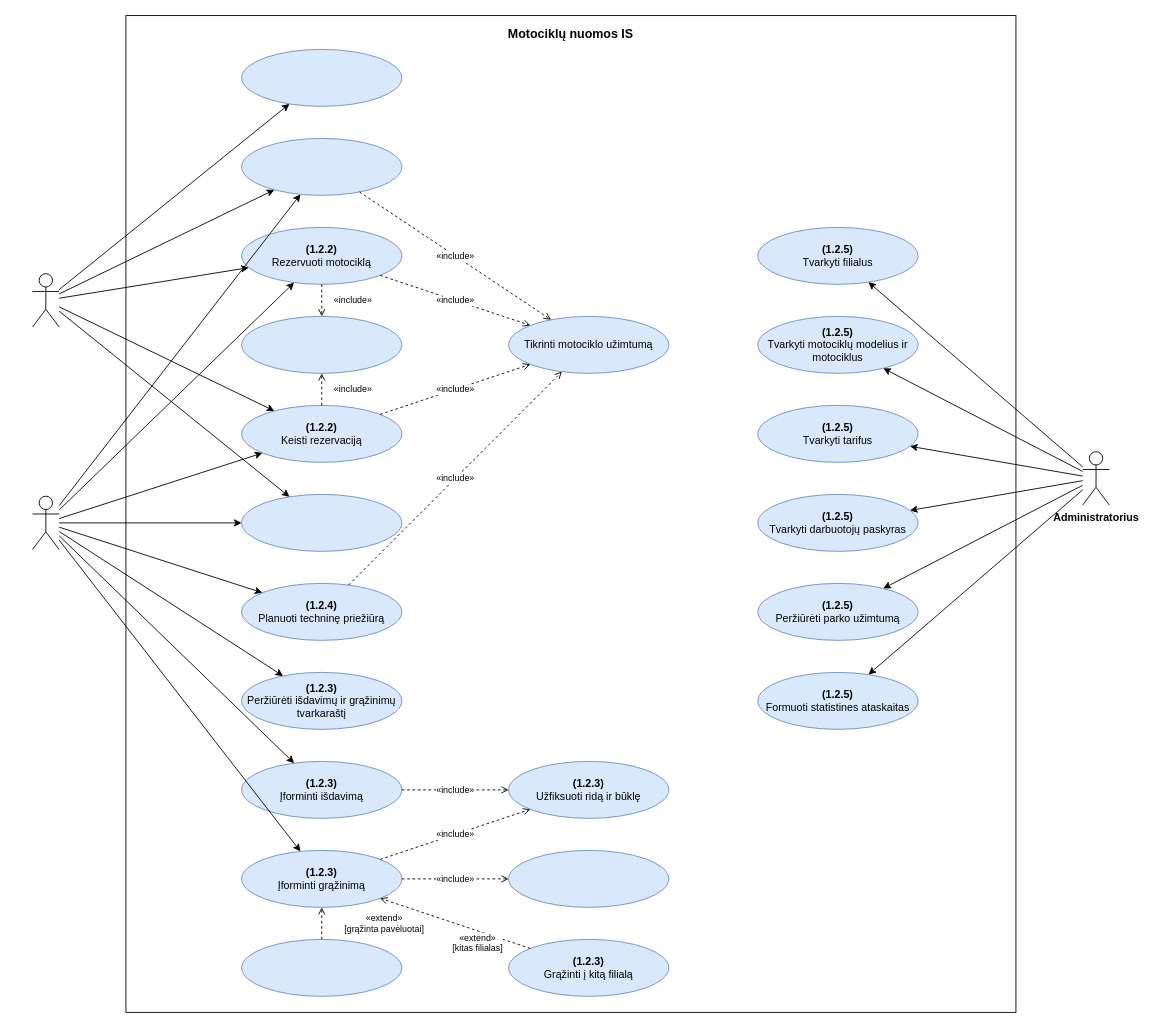
This 1154x1028 diagram has some shape labels left out. Here are the shapes that lost their labels. From the top down, the centre of each, then its label:
At [321,77]: "(1.2.2) Peržiūrėti savo rezervacijas".
At [321,166]: "(1.2.1) Ieškoti laisvų motociklų".
At [45,300]: "Klientas".
At [321,344]: "(1.2.2) Tikrinti vairuotojo pažymėjimą".
At [45,522]: "Filialo darbuotojas".
At [321,522]: "(1.2.2) Atšaukti rezervaciją".
At [588,878]: "(1.2.3) Apskaičiuoti galutinę nuomos kainą".
At [321,967]: "(1.2.3) Apskaičiuoti baudą už pavėluotą grąžinimą".
